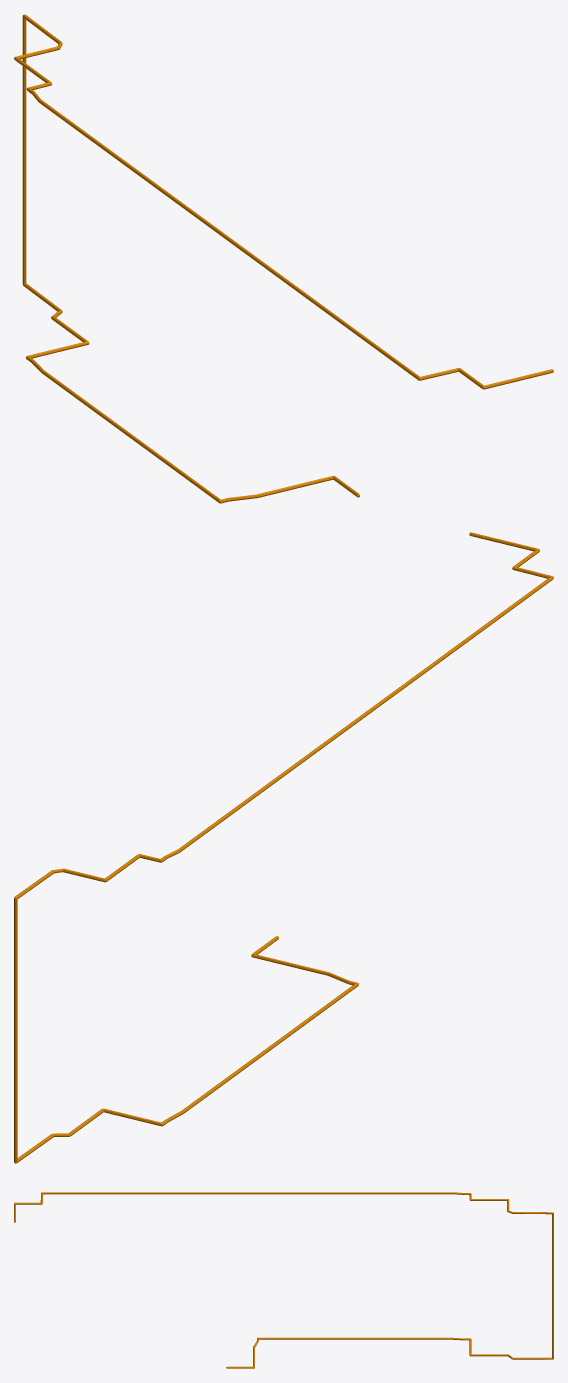
The picture shows the model from 3 angles, top to bottom: view 1: azimuth 30°, elevation 25°; view 2: azimuth 150°, elevation 25°; view 3: azimuth 270°, elevation 25°; orthographic projection. The views are drawn at different scales.
Bounding box in the file's own units: 662 × 1520 × 5044.
